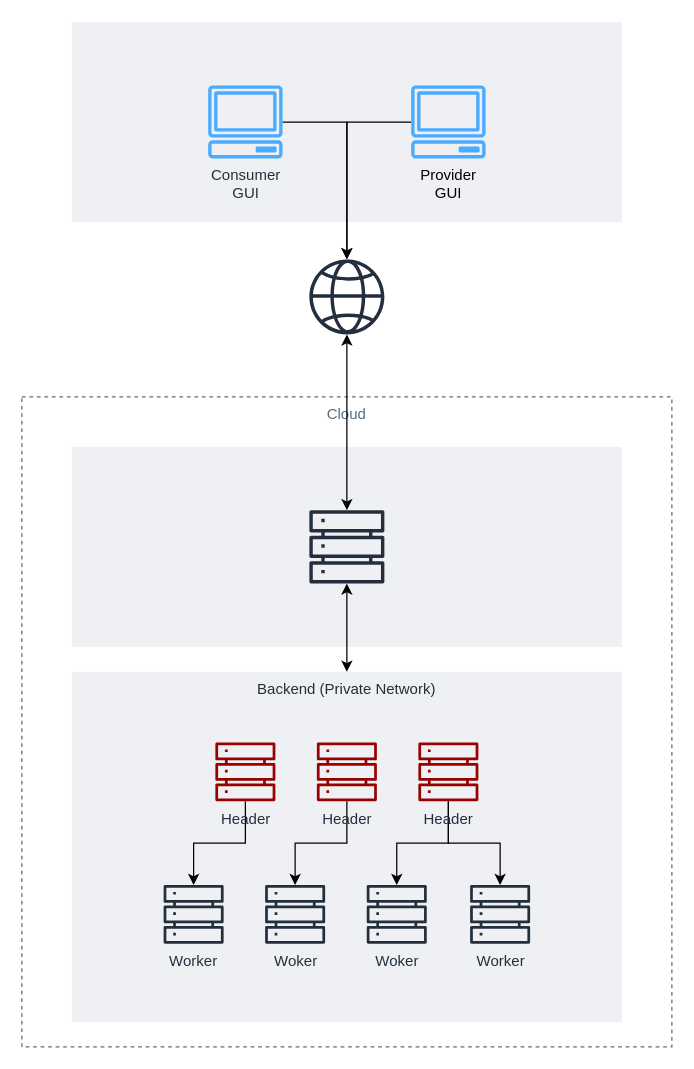
This 694x1069 diagram has some shape labels left out. The box of each missing label's shape, as (x1, y1, x2, y2) in pixels:
Application: (71, 21, 621, 221)
Backend: (71, 446, 621, 646)
Internet: (309, 259, 384, 334)
Walnut: (309, 509, 384, 584)
